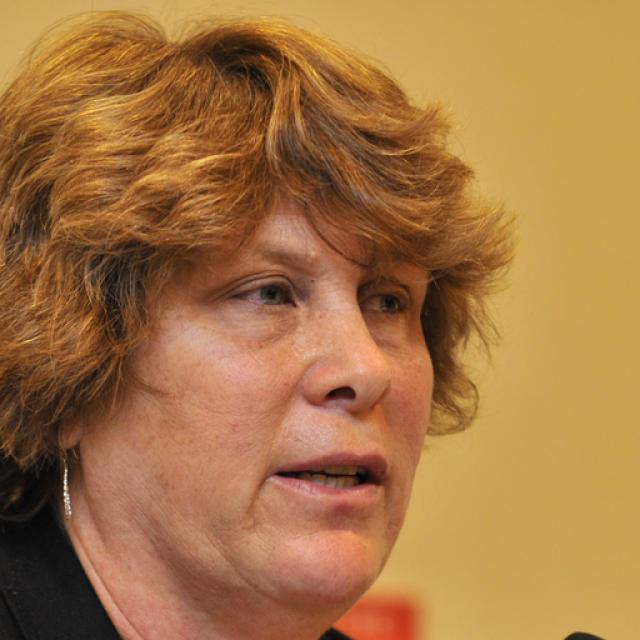neutral: (111, 96, 434, 599)
